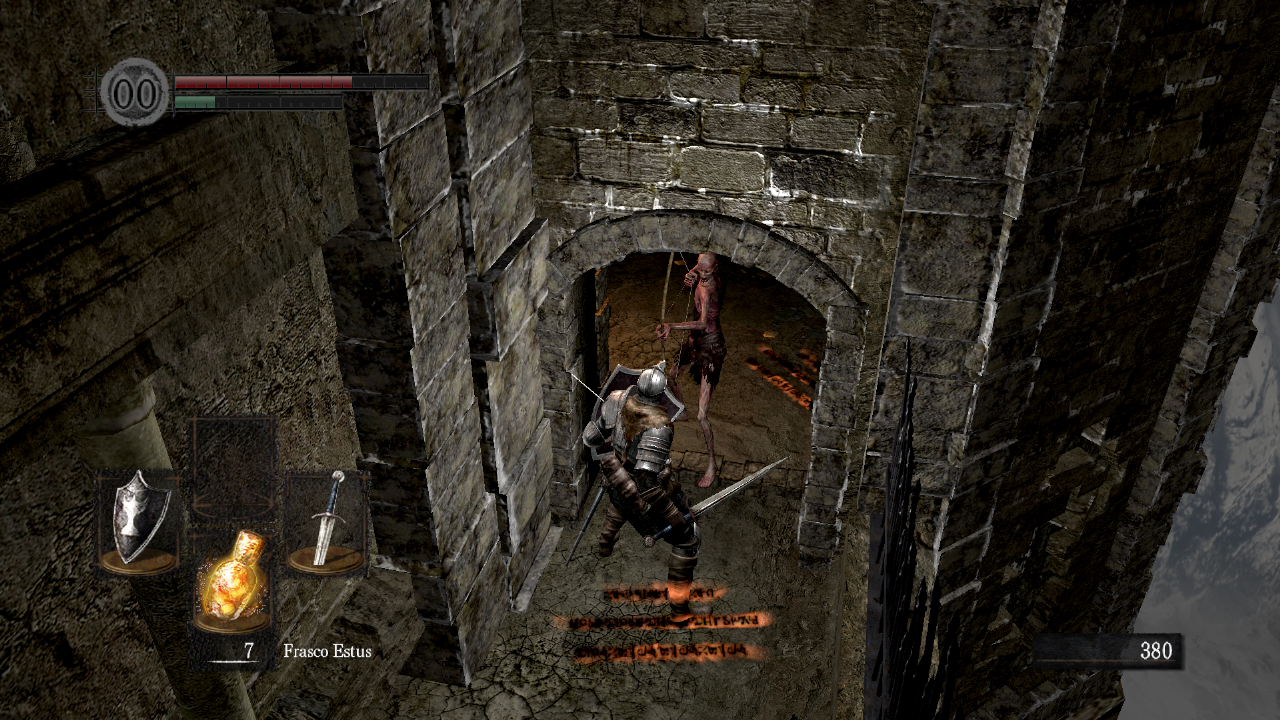hollow: (656, 251, 727, 488)
player: (566, 360, 790, 629)
